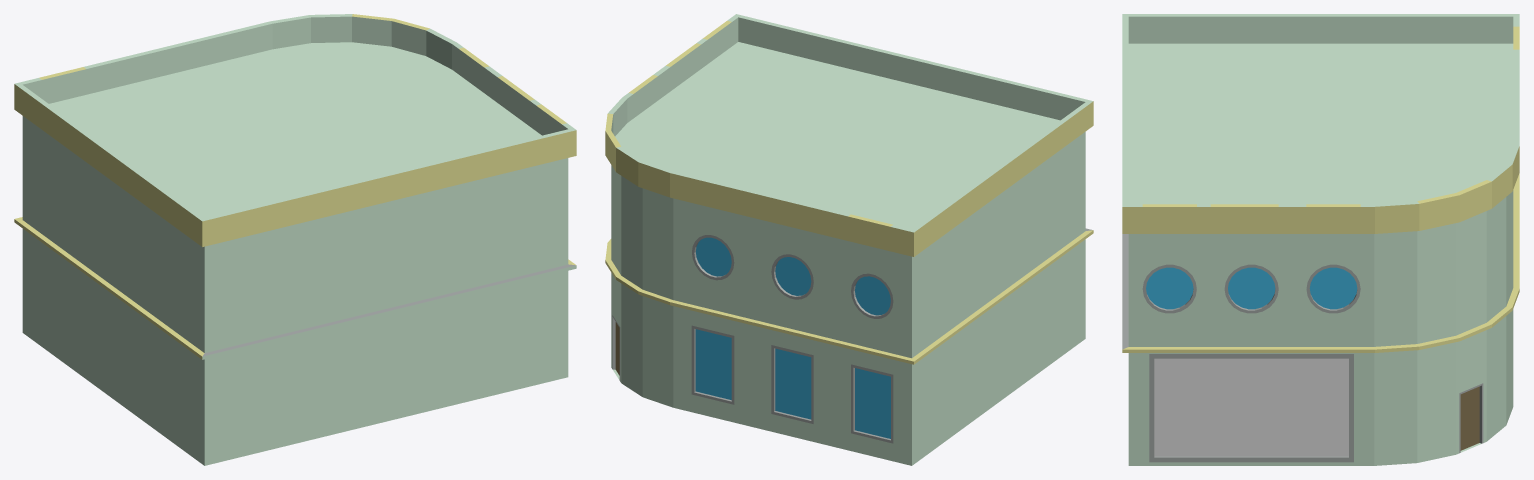
File: random cafe.fbx
3 renders of one model, left to right at view 1: azimuth 30°, elevation 25°; view 2: azimuth 150°, elevation 25°; view 3: azimuth 270°, elevation 25°, orthographic. The views are drawn at different scales.
Visible parts, largest first — view 1: building_001; view 2: building_001; view 3: building_001.
Part boxes in pixels (box(x1,y1,x2,y2)): building_001: box(14, 14, 576, 465); building_001: box(605, 14, 1093, 465); building_001: box(1122, 14, 1519, 465).
Size of the model in its own units: 3496 by 2213 by 3042.
